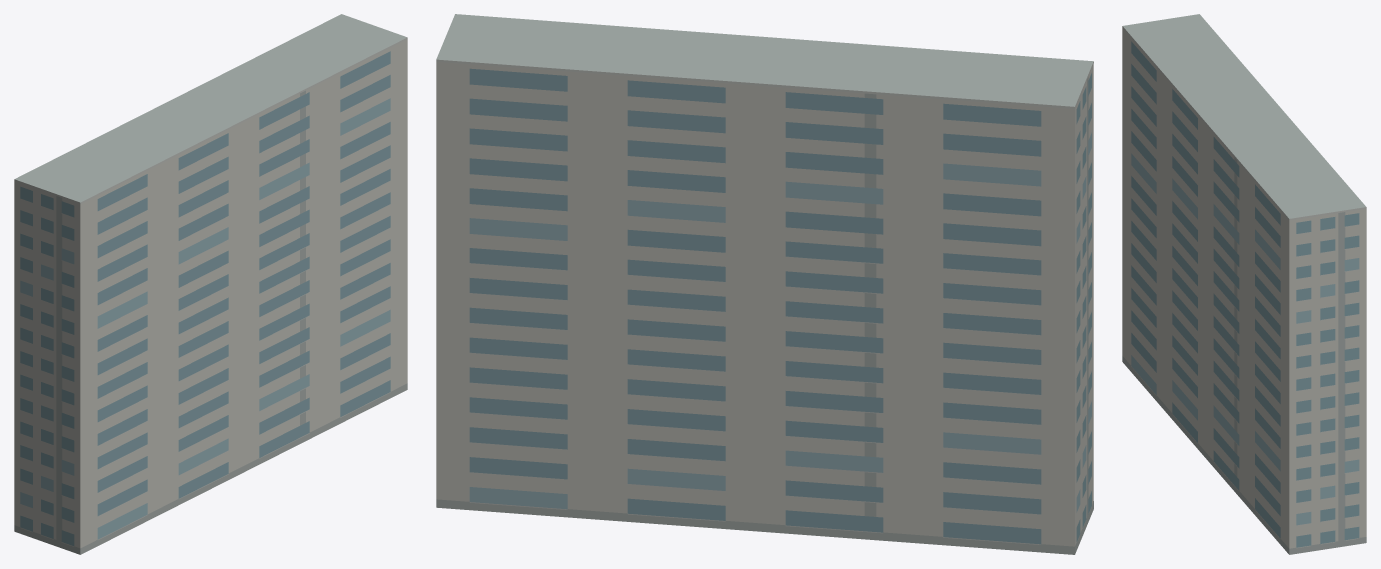
The model's file is residential-6495a23b-5b45-44e2-b397-19bab832c233.glb.
The picture shows the model from 3 angles, left to right: view 1: azimuth 30°, elevation 25°; view 2: azimuth 150°, elevation 25°; view 3: azimuth 270°, elevation 25°; orthographic projection. The views are drawn at different scales.
Parts seen in each view (by area): view 1: residential-6495a23b-5b45-44e2-b397-19bab832c233.tmp; view 2: residential-6495a23b-5b45-44e2-b397-19bab832c233.tmp; view 3: residential-6495a23b-5b45-44e2-b397-19bab832c233.tmp.
Boxes of the visible parts, left/top/right/bottom form: residential-6495a23b-5b45-44e2-b397-19bab832c233.tmp: left=14, top=14, right=407, bottom=554; residential-6495a23b-5b45-44e2-b397-19bab832c233.tmp: left=436, top=14, right=1093, bottom=554; residential-6495a23b-5b45-44e2-b397-19bab832c233.tmp: left=1122, top=14, right=1366, bottom=554.
Bounding box in the file's own units: 64.09 × 49 × 32.26.
